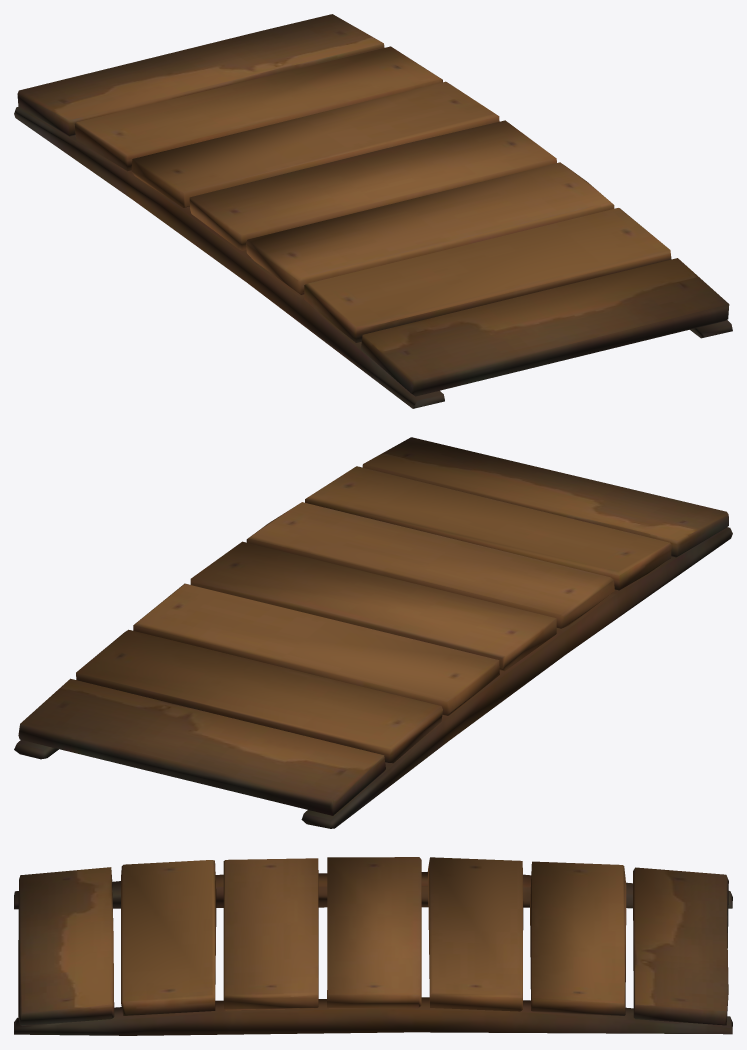
File: walkway.glb
The picture shows the model from 3 angles, top to bottom: view 1: azimuth 30°, elevation 25°; view 2: azimuth 150°, elevation 25°; view 3: azimuth 270°, elevation 25°; orthographic projection. The views are drawn at different scales.
Parts seen in each view (by area): view 1: planks; view 2: planks; view 3: planks.
Boxes of the visible parts, x1,y1,x2,y2 form: planks: (14, 14, 732, 408); planks: (14, 437, 732, 828); planks: (14, 857, 732, 1035).
Size of the model in its own units: 0.9199 by 0.1331 by 2.01.
1 material, 1 textured.
